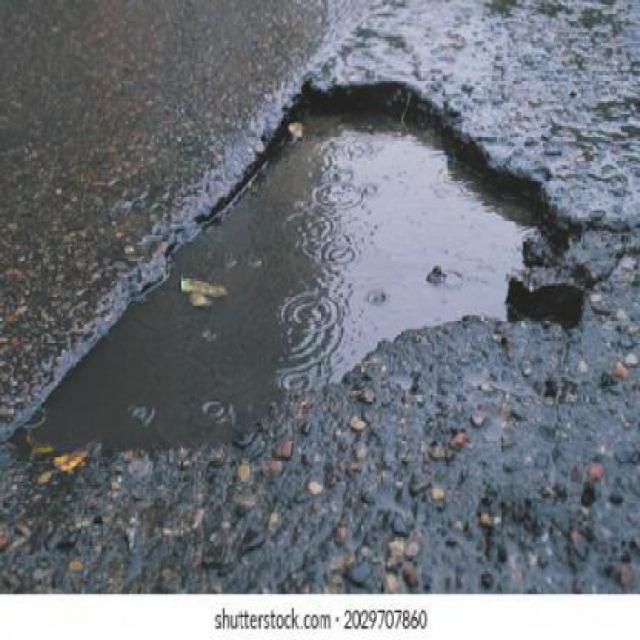pothole: (4, 78, 583, 458)
